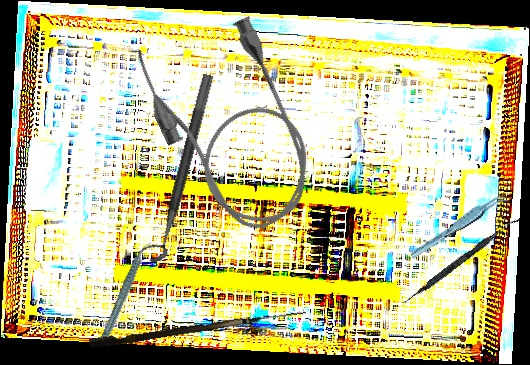Cannula: (126, 2, 333, 250)
Fixation Ring: (135, 68, 216, 266)
Handpiece: (79, 239, 172, 349)
Hook Surgical: (88, 301, 307, 352)
Spatula Surgical: (401, 213, 520, 309)
Tissue Forceps: (404, 192, 514, 260)
